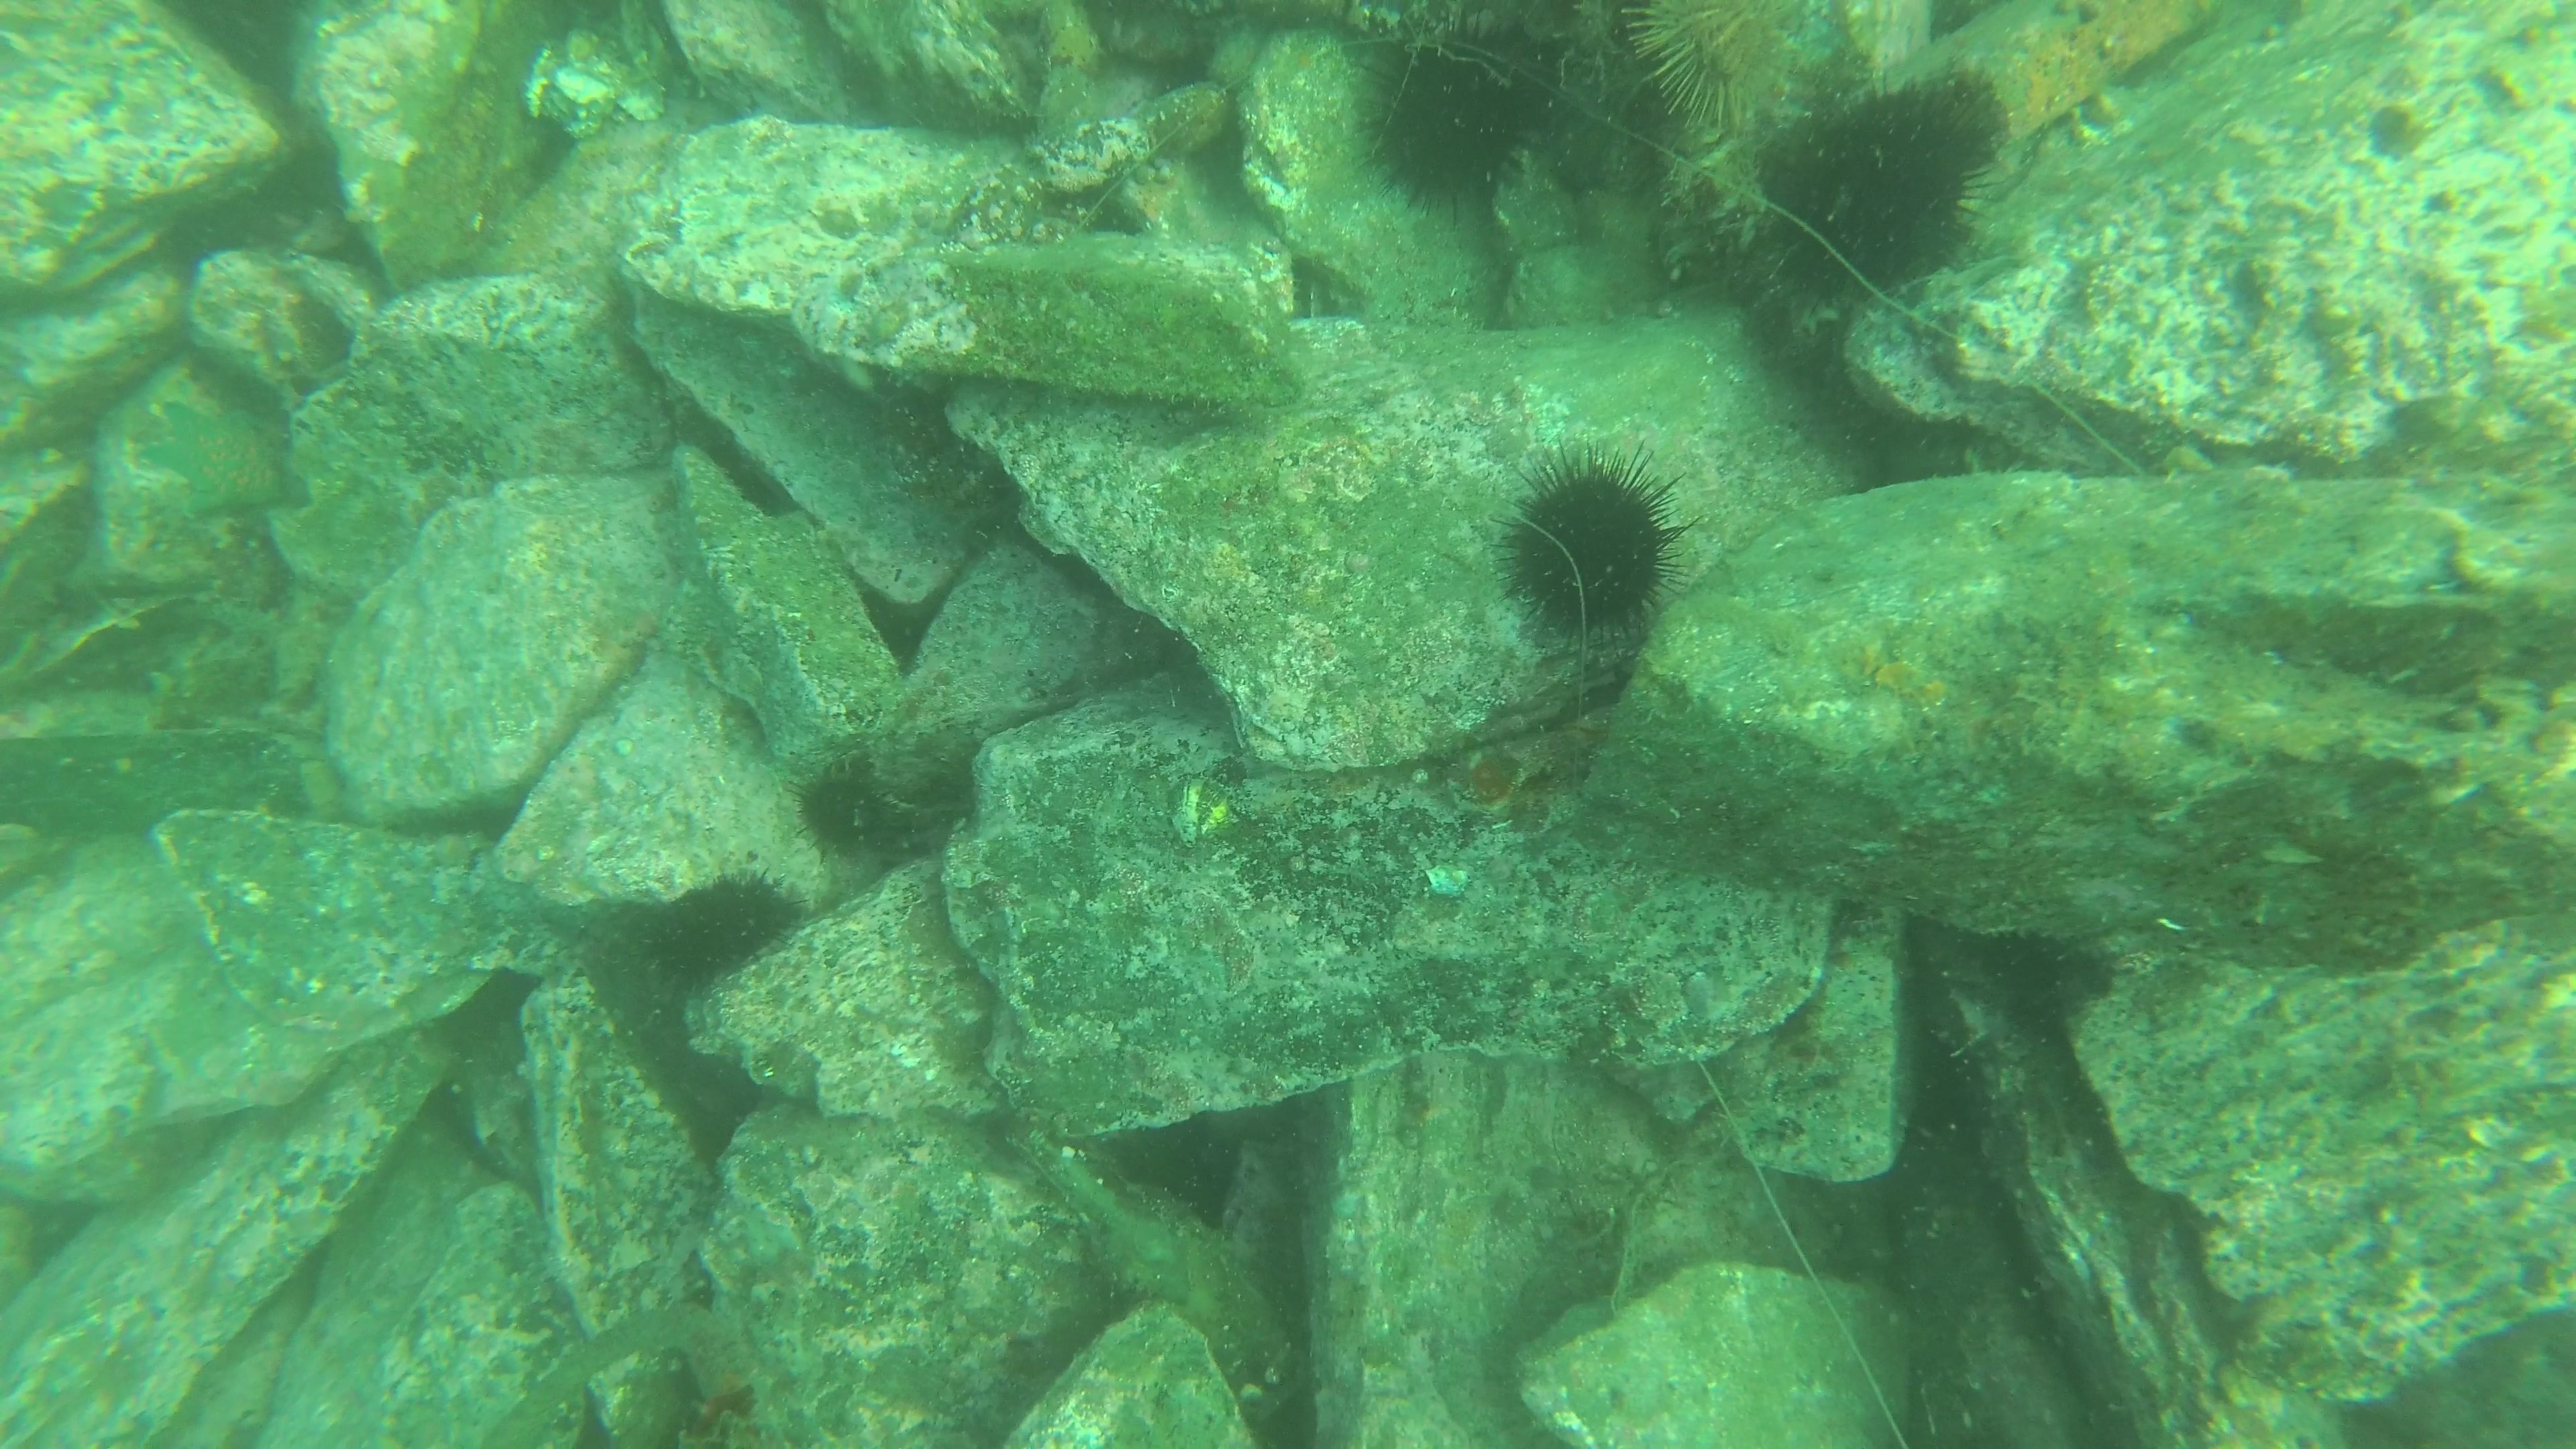echinus: (1755, 74, 2006, 306), (1350, 16, 1559, 211), (1493, 444, 1690, 644), (1617, 2, 1808, 131), (639, 863, 805, 991), (791, 752, 911, 863)
starfish: (136, 389, 299, 525)
